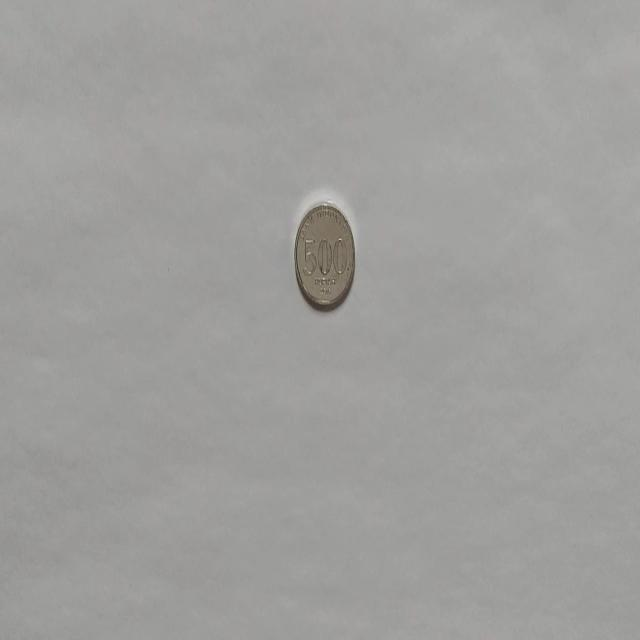lima ratus rupiah: (292, 200, 356, 311)
